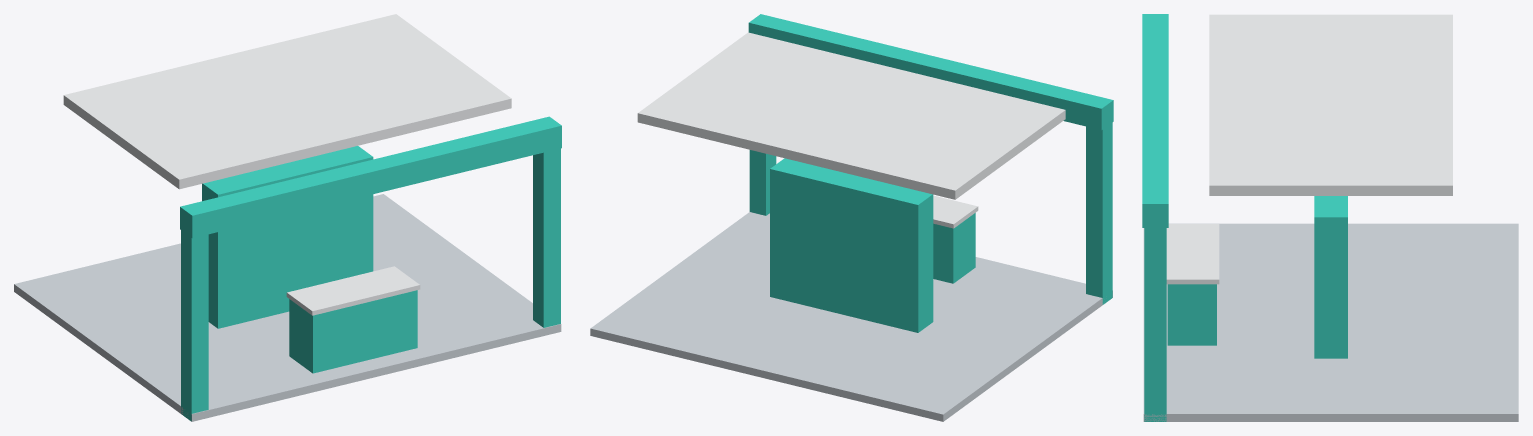
The picture shows the model from 3 angles, left to right: view 1: azimuth 30°, elevation 25°; view 2: azimuth 150°, elevation 25°; view 3: azimuth 270°, elevation 25°; orthographic projection. The views are drawn at different scales.
Parts seen in each view (by area): view 1: Exhibition Booth Concept; view 2: Exhibition Booth Concept; view 3: Exhibition Booth Concept.
Boxes of the visible parts, x1,y1,x2,y2 form: Exhibition Booth Concept: (14,14,561,421); Exhibition Booth Concept: (590,14,1113,421); Exhibition Booth Concept: (1142,14,1518,421).
Bounding box in the file's own units: 6 × 3.34 × 5.02.
